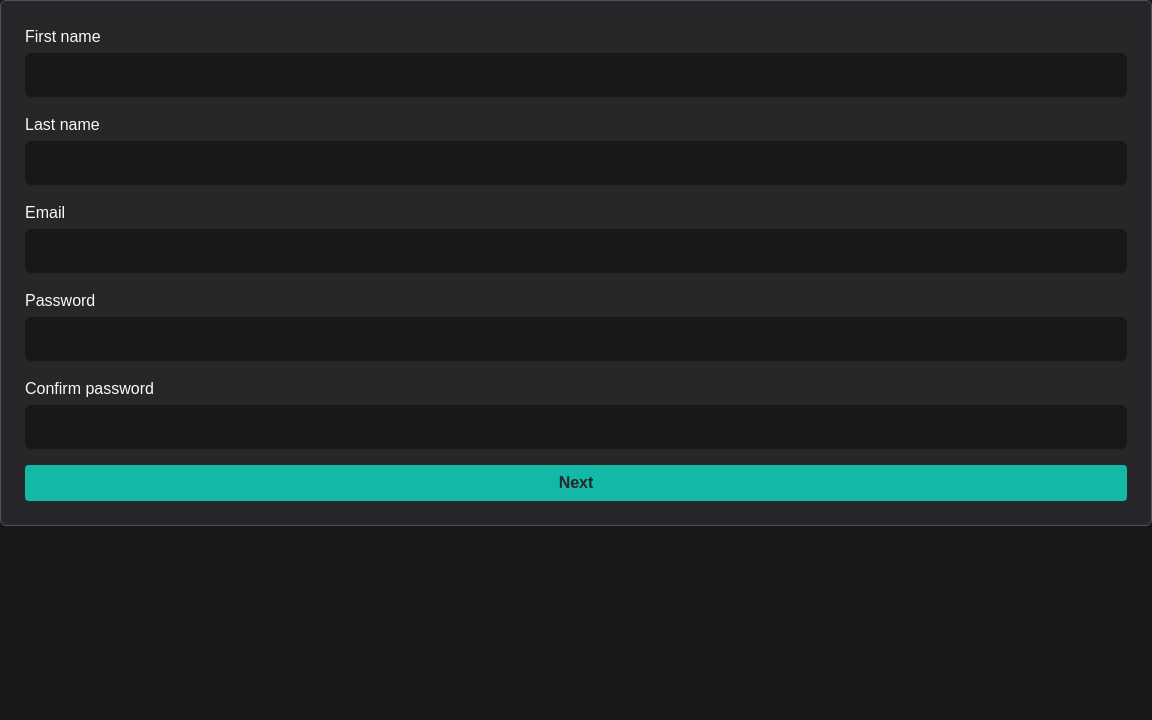
Scenario: Contact Form › should show error messages when fields does not matches with the validation schema
Click the button "Next": (576, 483) [25, 465, 1127, 501]
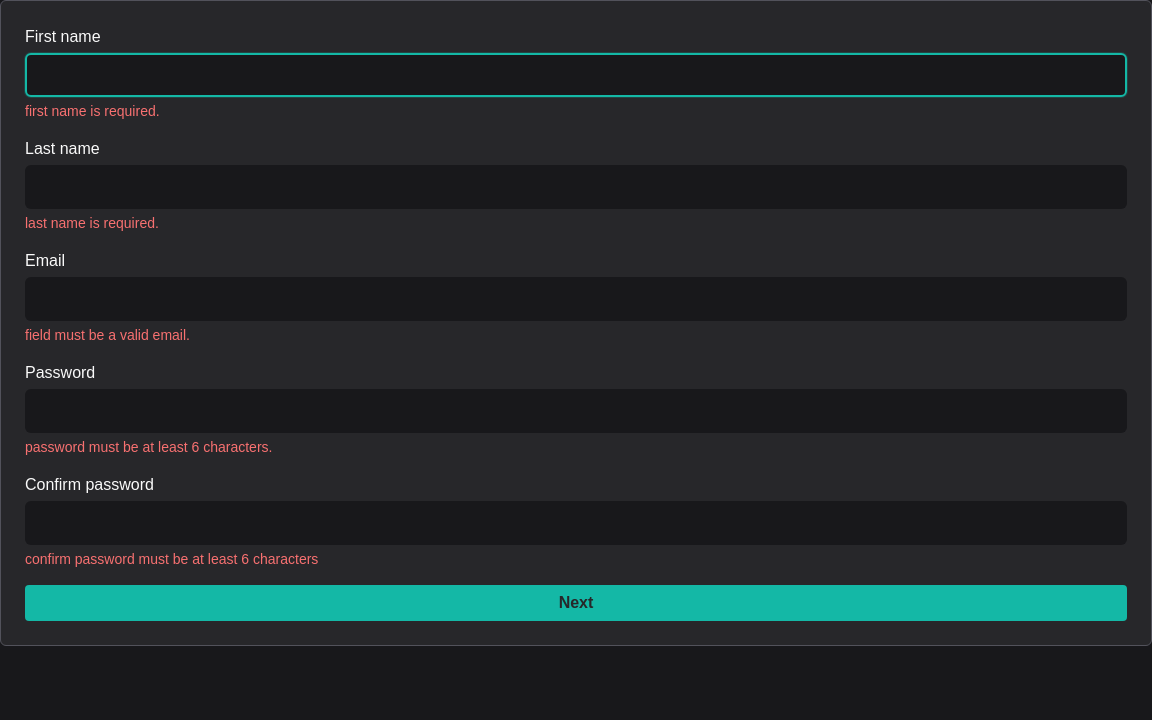
expect the text "first name is required." is shown: met, box [25, 103, 160, 119]
expect the text "last name is required." is shown: met, box [25, 215, 159, 231]
expect the text "field must be a valid email." is shown: met, box [25, 327, 190, 343]
